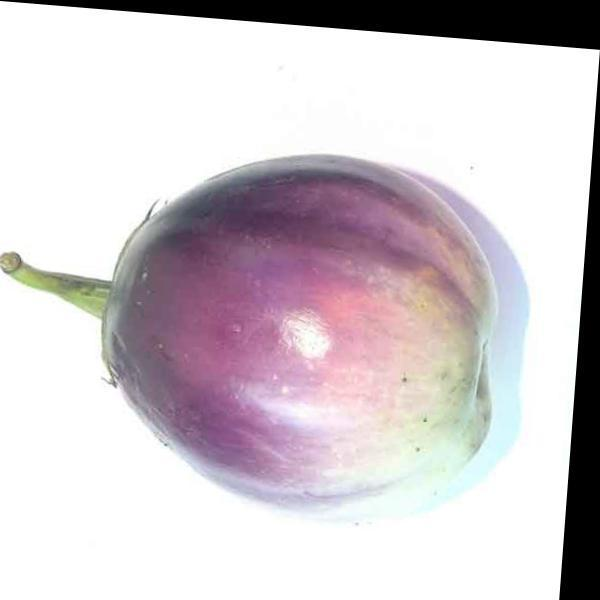eggplant: (13, 127, 530, 512)
